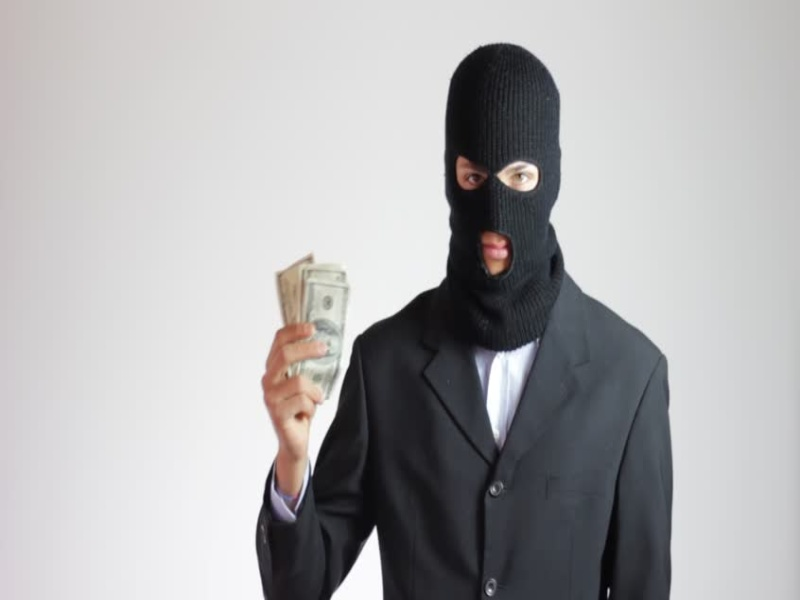balaclava: (444, 42, 561, 348)
hand: (260, 320, 335, 489)
person: (254, 43, 672, 600)
